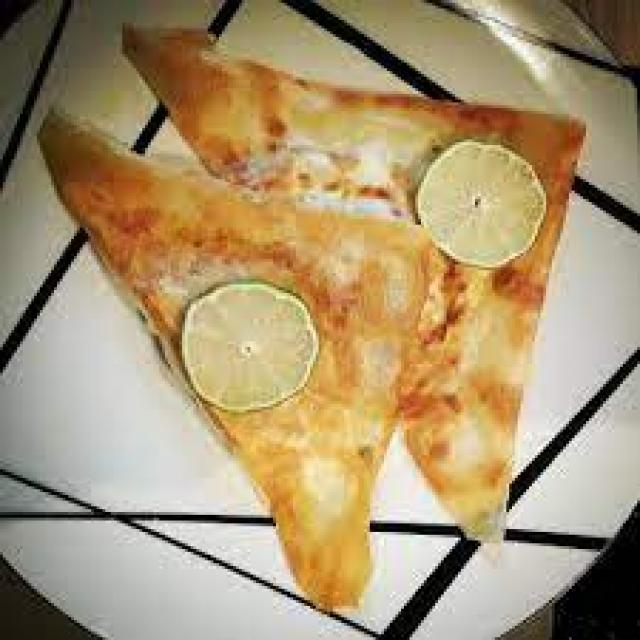brik: (61, 128, 462, 619), (366, 72, 615, 548)
